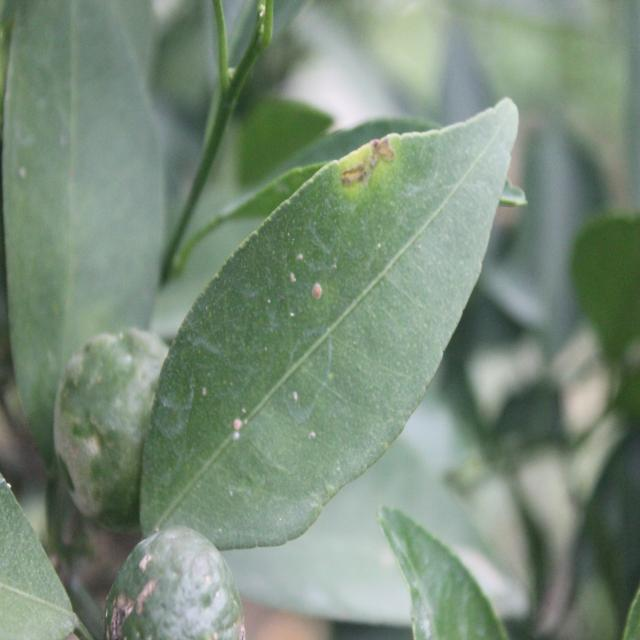canker: (188, 104, 446, 497)
